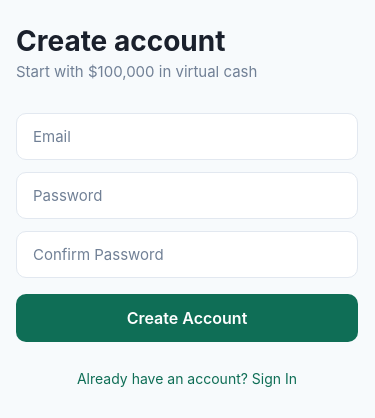
SignUpScreen › shows error when passwords do not match
Type "user@example.com" into the field with placeholder "Email" at coordinates (187, 136), box [16,112,358,160]
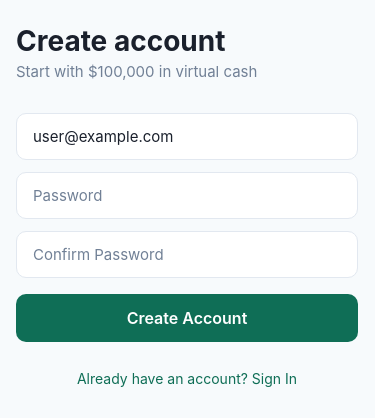
Type "password123" into the password field with placeholder "Password" at coordinates (187, 195), box [16,172,358,218]
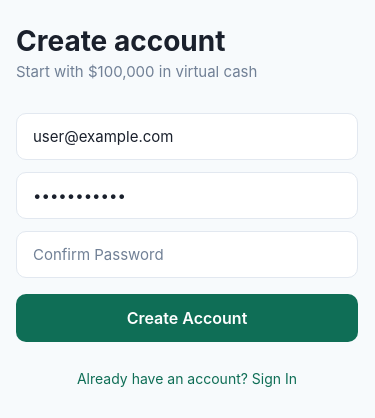
Type "different" into the password field with placeholder "Confirm Password" at coordinates (187, 254), box [16,230,358,278]
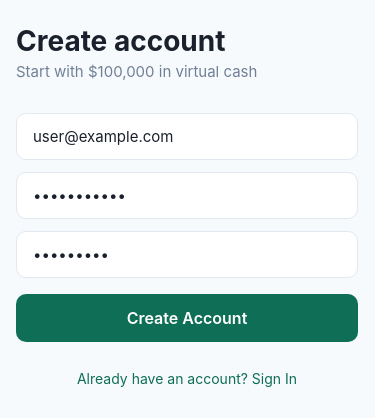
Click the text "Create Account" at coordinates (187, 318), box [127,308,247,328]
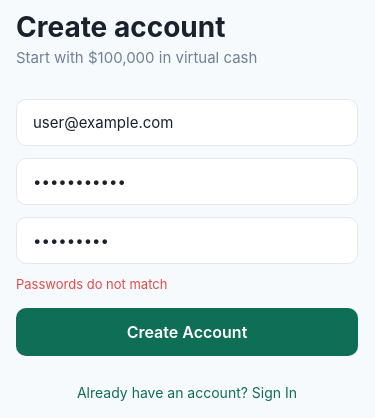
Now the text "Passwords do not match" is shown, box [16,276,167,292]
